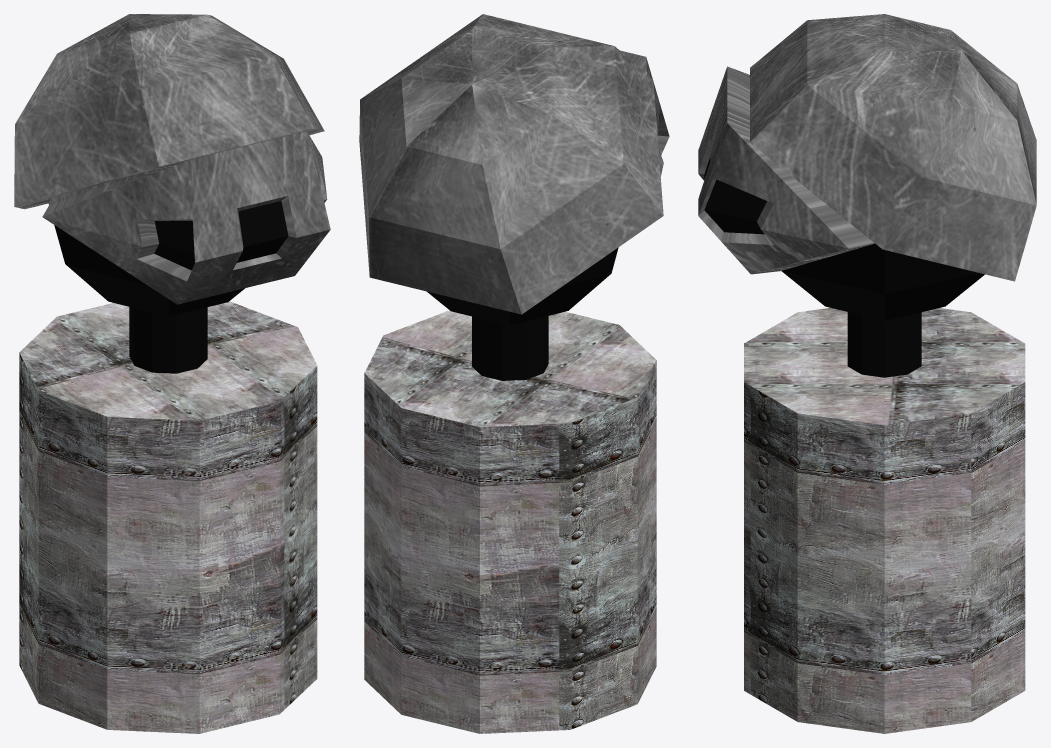
File: warrior model(unanimated).fbx
3 renders of one model, left to right at view 1: azimuth 30°, elevation 25°; view 2: azimuth 150°, elevation 25°; view 3: azimuth 270°, elevation 25°, orthographic. The views are drawn at different scales.
Parts seen in each view (by area): view 1: pCylinder1, pasted__pSphere1, pSphere1, pCylinder2; view 2: pCylinder1, pasted__pSphere1, pCylinder2, pSphere1; view 3: pCylinder1, pasted__pSphere1, pSphere1, pCylinder2.
Boxes of the visible parts, x1,y1,x2,y2 form: pCylinder1: (19, 301, 317, 733); pasted__pSphere1: (14, 14, 324, 209); pSphere1: (42, 131, 330, 316); pCylinder2: (129, 307, 207, 373); pCylinder1: (364, 310, 656, 733); pasted__pSphere1: (359, 14, 663, 314); pCylinder2: (472, 316, 548, 380); pSphere1: (427, 50, 669, 325); pCylinder1: (744, 308, 1025, 733); pasted__pSphere1: (750, 14, 1036, 281); pSphere1: (698, 66, 984, 320); pCylinder2: (847, 312, 921, 377).
Bounding box in the file's own units: 2.39 × 4.77 × 2.29.
